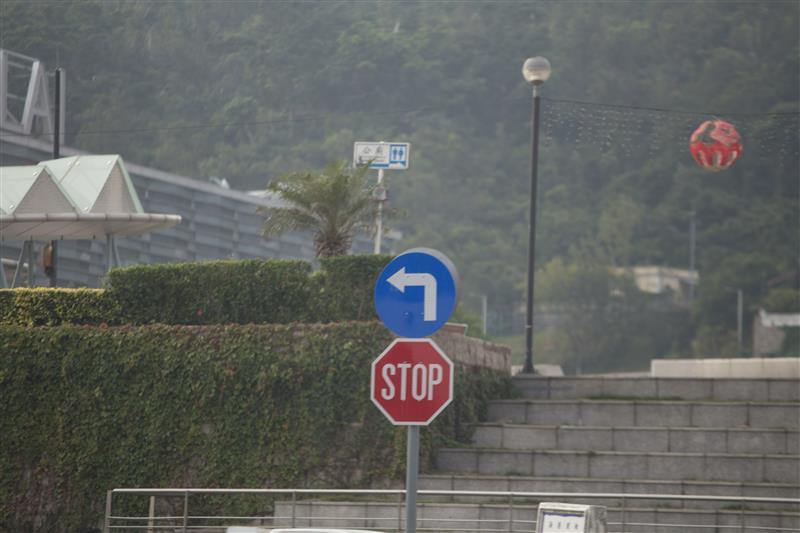leftTurnOnly: (375, 253, 457, 337)
stop: (368, 336, 457, 424)
